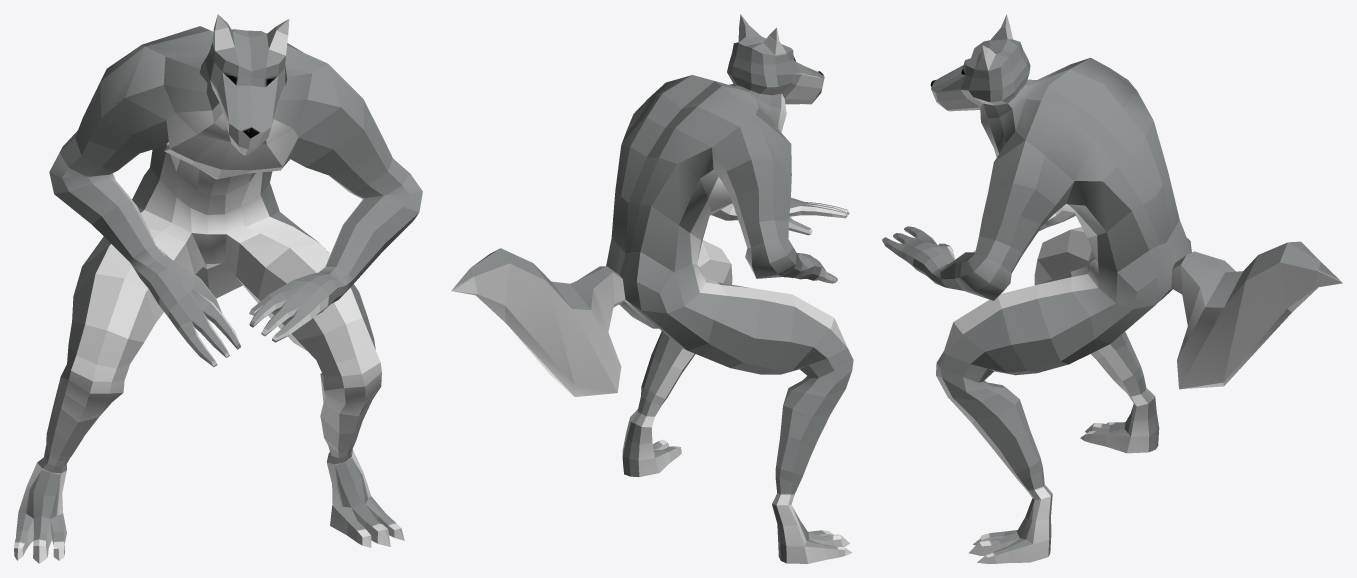
The model's file is WolfAttack(9).obj.
3 views of the same model, side by side, from view 1: azimuth 30°, elevation 25°; view 2: azimuth 150°, elevation 25°; view 3: azimuth 270°, elevation 25° (orthographic). The views are drawn at different scales.
Parts seen in each view (by area): view 1: Box001; view 2: Box001; view 3: Box001.
Part boxes in pixels (x1,y1,x2,y2): Box001: (14,14,422,563); Box001: (451,14,853,563); Box001: (882,14,1342,563).
Bounding box in the file's own units: 79.76 × 125 × 109.
